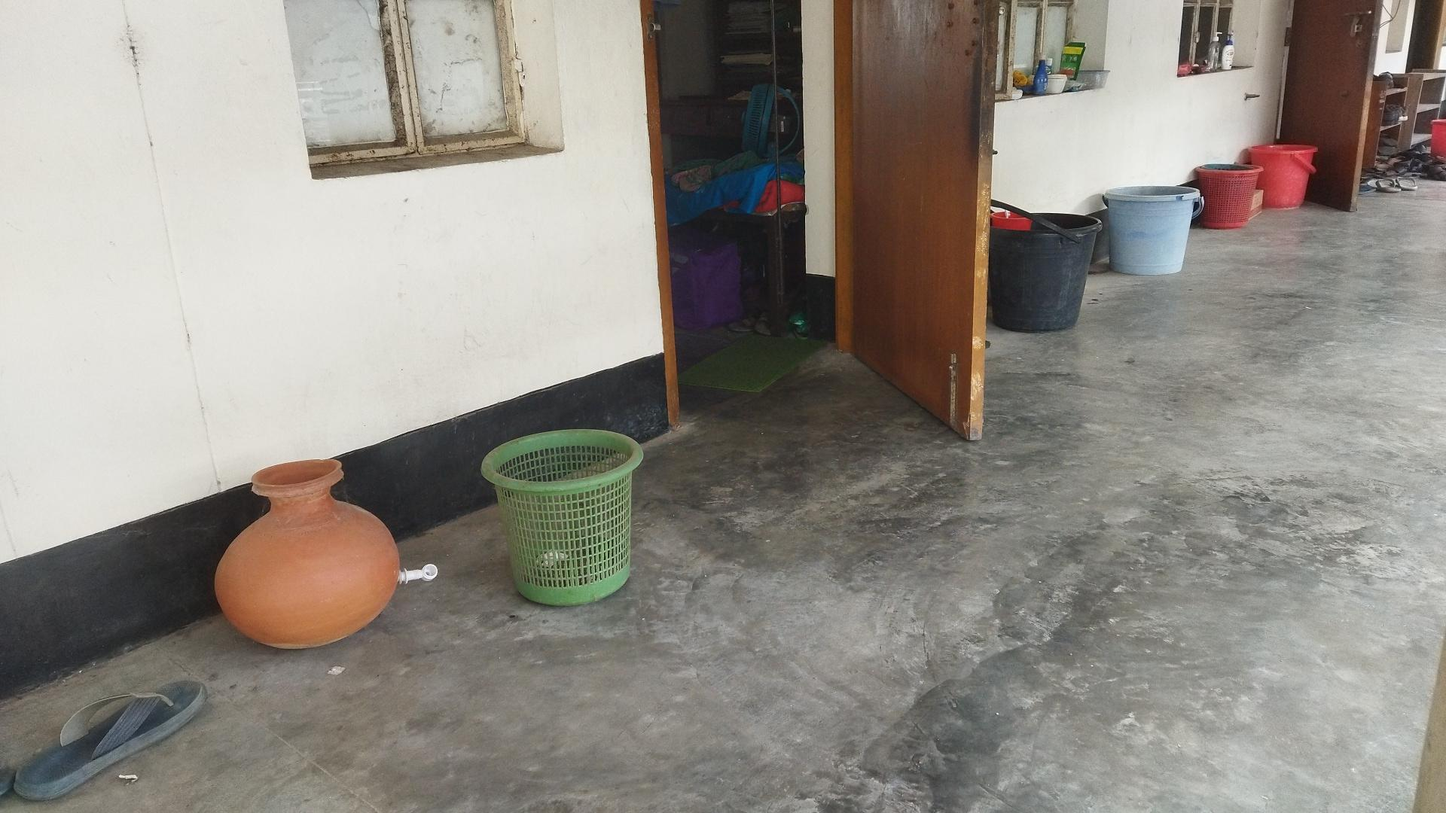Basket: (458, 421, 652, 609), (1198, 156, 1262, 234)
Bucket: (990, 188, 1106, 343), (1102, 173, 1192, 283), (1244, 135, 1312, 210)
Floor Mat: (681, 325, 827, 409)
Footwear: (24, 665, 209, 811)
